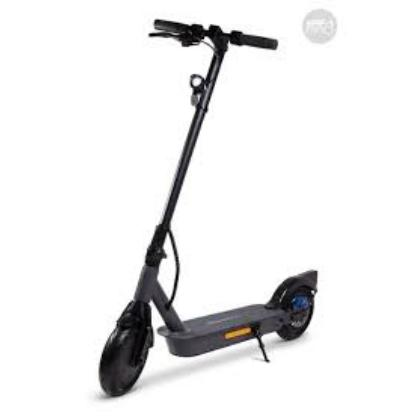bike: (96, 18, 319, 398)
